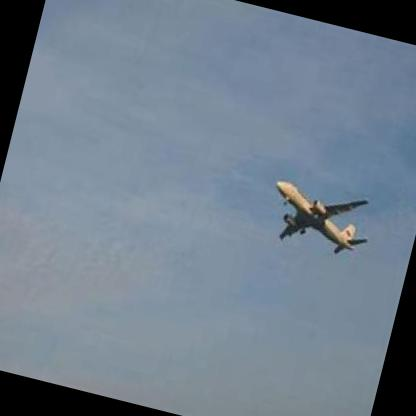plane: (250, 164, 386, 274)
